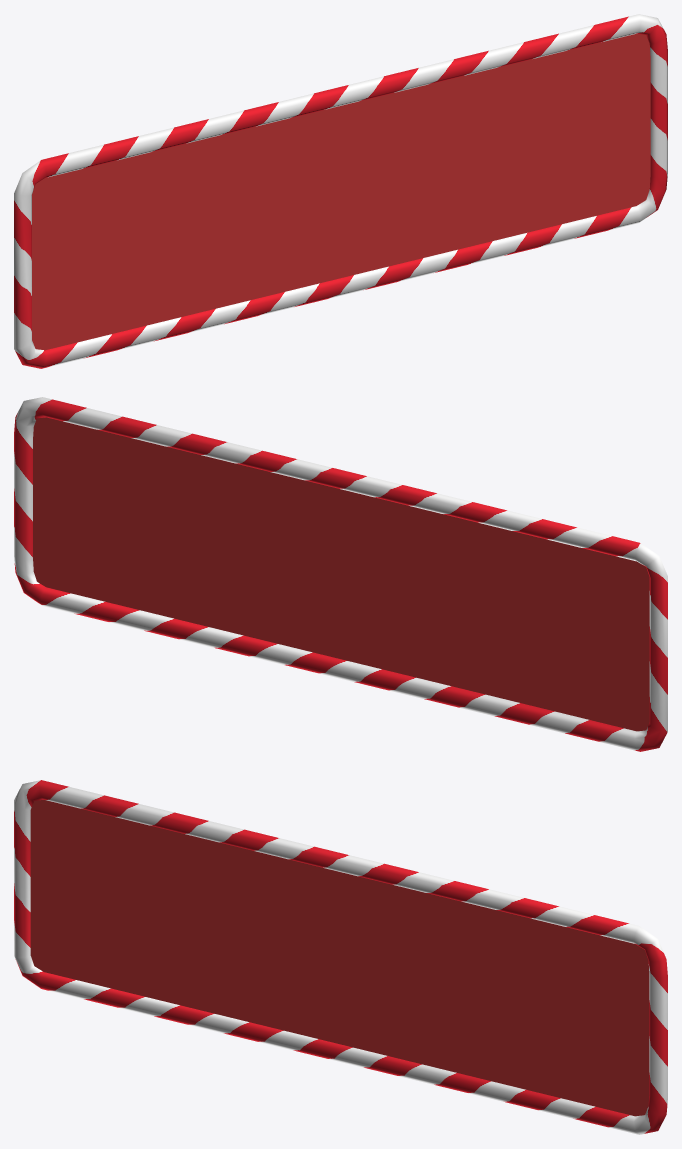
File: countdown_frame.glb
3 views of the same model, one above another, from view 1: azimuth 30°, elevation 25°; view 2: azimuth 150°, elevation 25°; view 3: azimuth 330°, elevation 25° (orthographic).
Visible parts, largest first — view 1: board; view 2: board; view 3: board.
Part boxes in pixels (x1,y1,x2,y2): board: (14,14,667,368); board: (14,397,667,751); board: (14,780,667,1134).
Size of the model in its own units: 12.38 by 3.78 by 0.1985.
2 materials, 2 textured.
